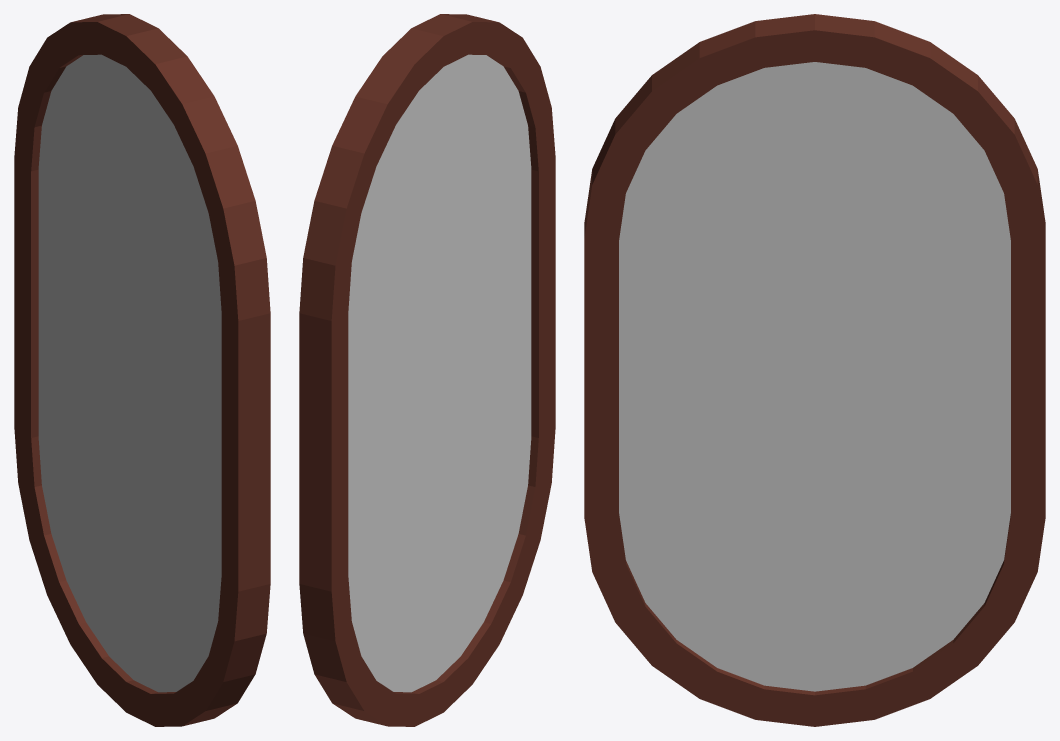
File: round_painting.fbx
3 renders of one model, left to right at view 1: azimuth 30°, elevation 25°; view 2: azimuth 150°, elevation 25°; view 3: azimuth 270°, elevation 25°, orthographic. The views are drawn at different scales.
Visible parts, largest first — view 1: Painting; view 2: Painting; view 3: Painting.
Boxes of the visible parts, left/top/right/bottom form: Painting: left=14, top=14, right=270, bottom=726; Painting: left=299, top=14, right=555, bottom=726; Painting: left=584, top=14, right=1045, bottom=726.
Bounding box in the file's own units: 0.1 × 2 × 1.2.
